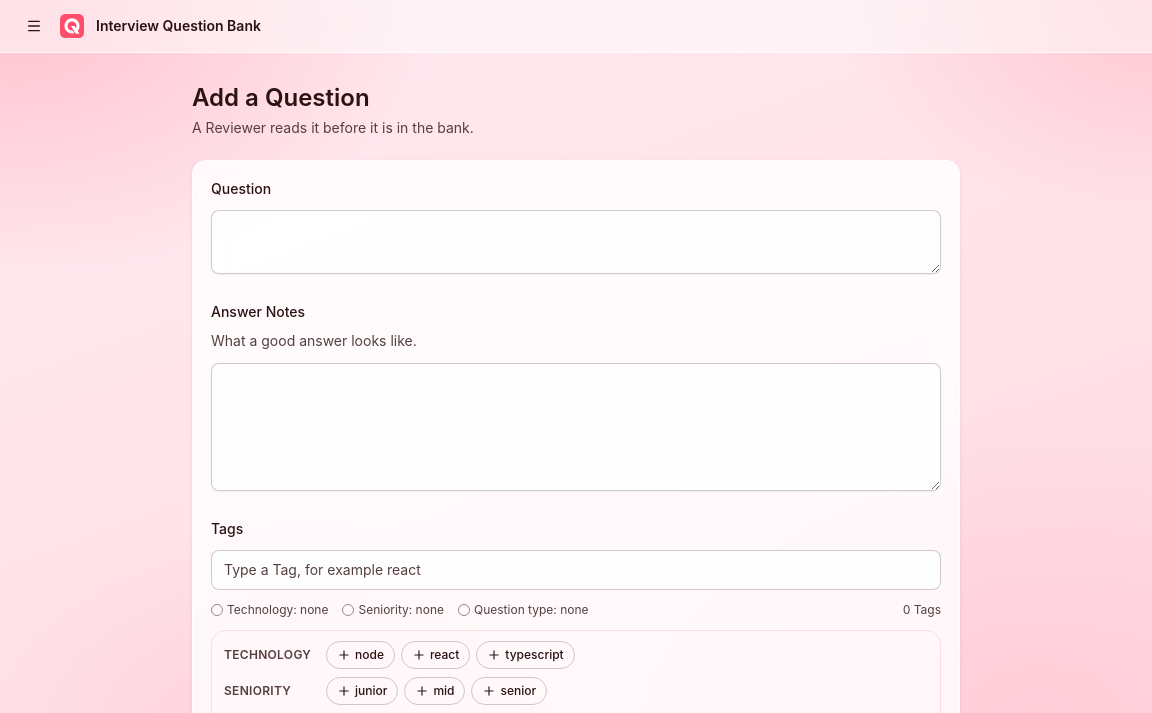
Test case: adding a Question that is refused › shows a Tag the API refused inside the list against the Tags
Type "How would you find a slow query?" into the text box labelled "Question" at point(576, 242), box [211,210,941,274]
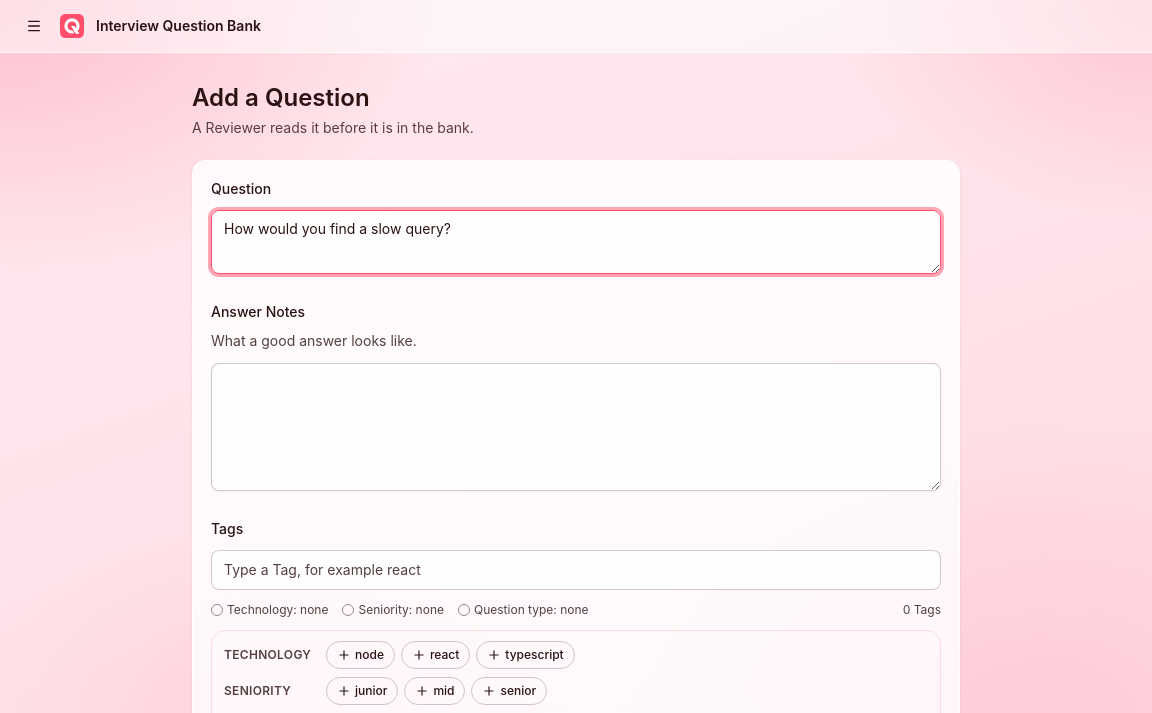
Type "Look for EXPLAIN ANALYZE." into the text box labelled "Answer Notes" at point(576, 426), box [211,362,941,490]
(page scrolled)
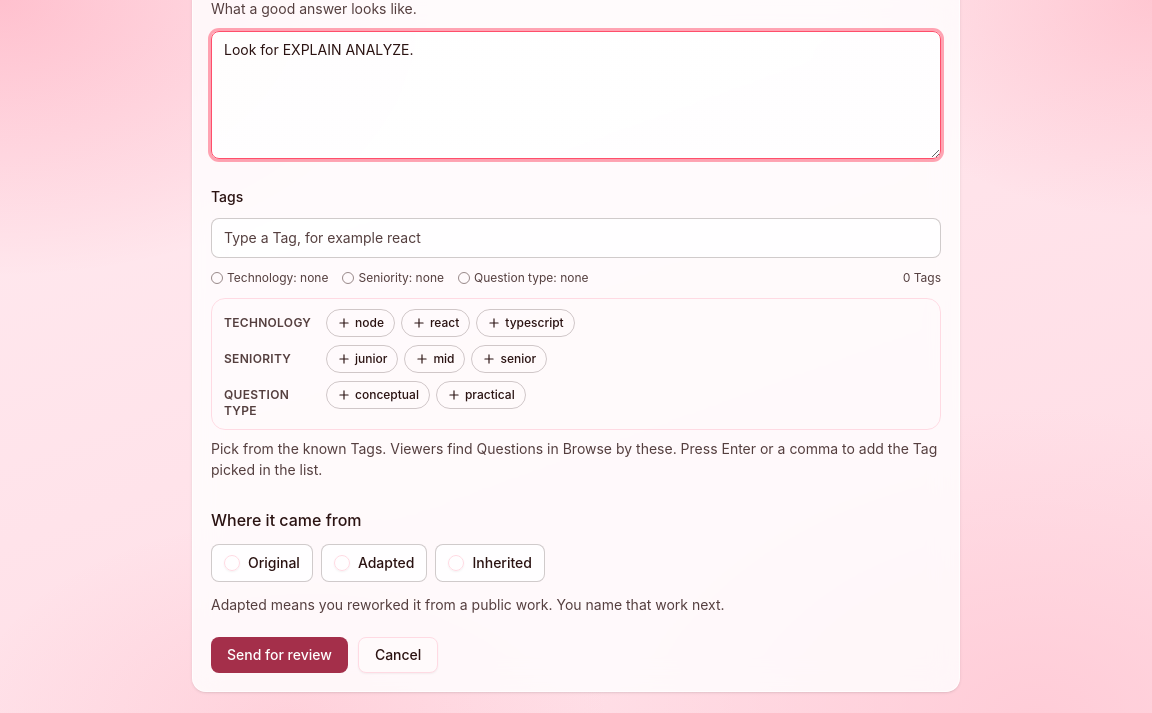
Click the radio button named "Original" next to "Original" at point(232, 563), box [224,555,240,571]
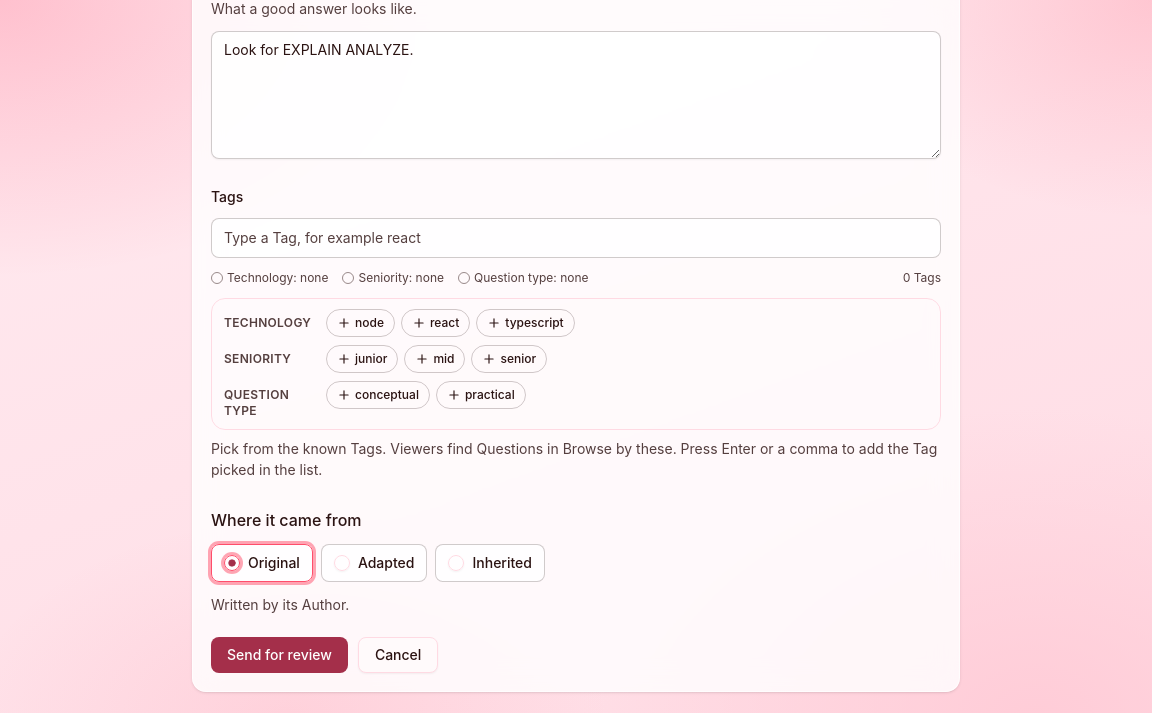
Click the button "Send for review" at point(279, 655), box [211,637,348,673]
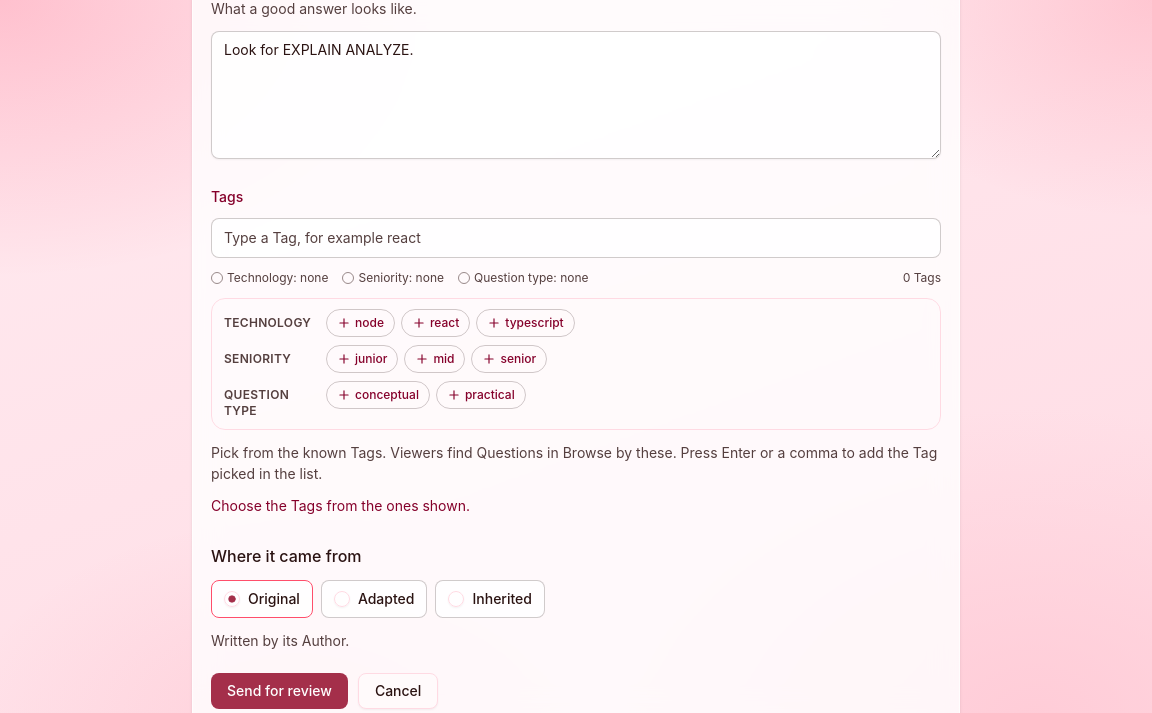
Now the text "Choose the Tags from the ones shown." is shown, box [211,497,470,514]
